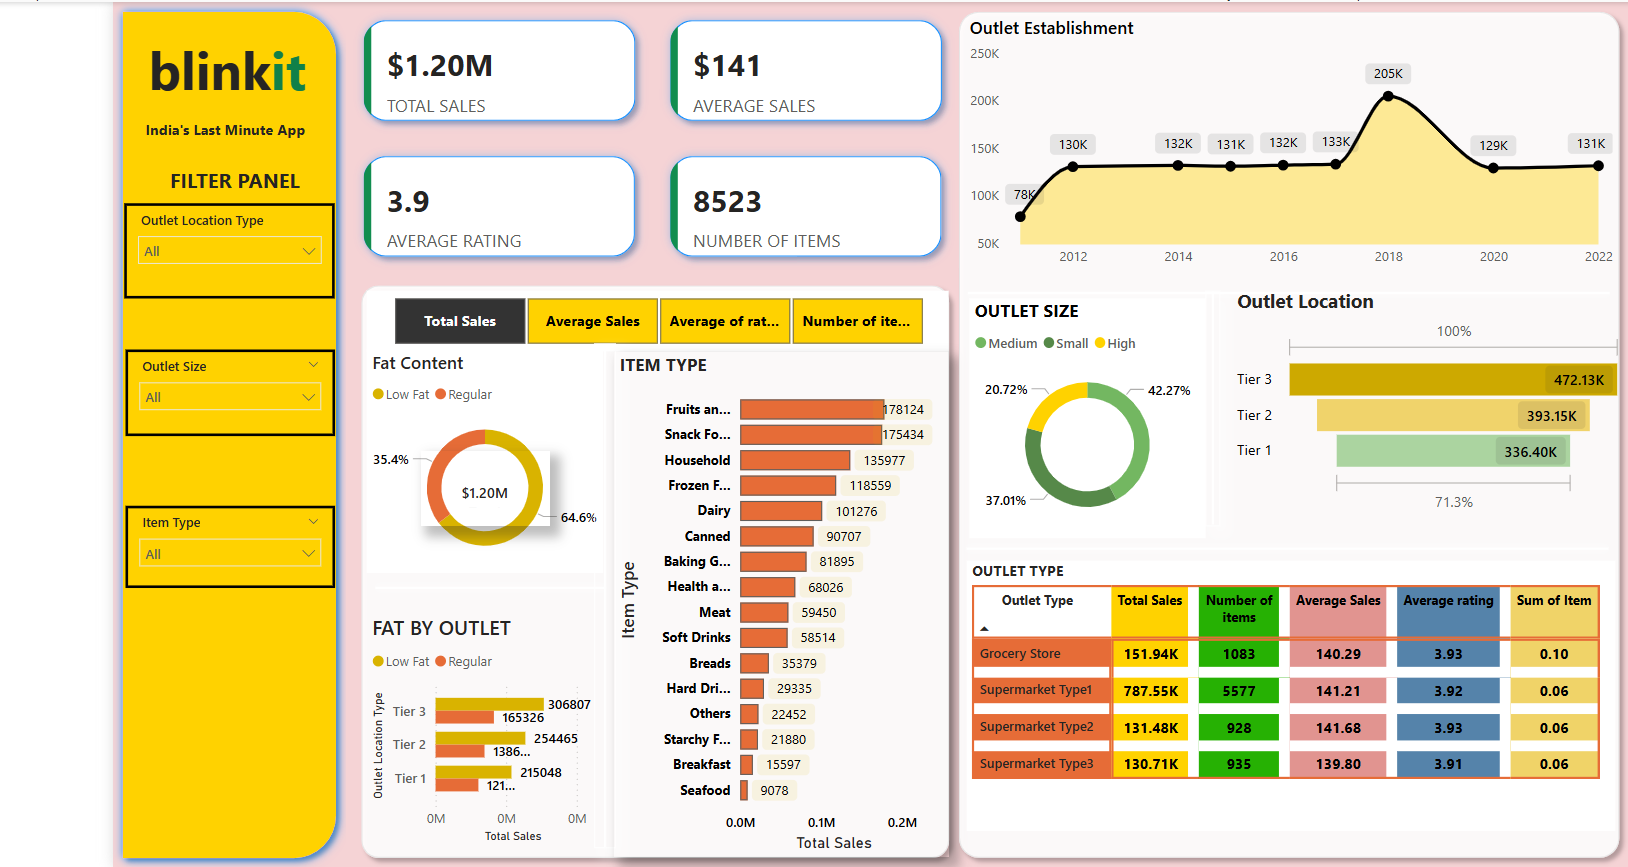

This screenshot's page, from the dashboard's own definition file:
{"tool":"powerbi","page":{"name":"Page 1","canvas":[1400,800],"ordinal":0},"visuals":[{"type":"shape","box":[0,0,214.9,800],"z":0},{"type":"textbox","box":[10.5,24,190.6,79.5],"z":1000},{"type":"textbox","box":[24,103.6,159.1,43.5],"z":2000},{"type":"cardVisual","fields":{"Data":["BlinkIT Grocery Data.Total Sales","BlinkIT Grocery Data.Average Sales","BlinkIT Grocery Data.Average of rating","BlinkIT Grocery Data.Number of items"]},"box":[214.9,0,569.8,253.1],"z":3000},{"type":"shape","box":[220,253.1,560.9,546.9],"z":4000},{"type":"donutChart","title":" Fat Content","fields":{"Y":["BlinkIT Grocery Data.Total Sales"],"Category":["BlinkIT Grocery Data.Item Fat Content"]},"box":[234,320.5,218.8,206],"z":5000},{"type":"slicer","fields":{"Values":["Metrices.Metrices"]},"box":[234,267.1,538,56],"z":6000},{"type":"cardVisual","fields":{"Data":["BlinkIT Grocery Data.Total Sales"]},"box":[283.6,414.6,119.5,69.9],"z":7000},{"type":"clusteredBarChart","title":"FAT BY OUTLET","fields":{"Y":["BlinkIT Grocery Data.Total Sales"],"Category":["BlinkIT Grocery Data.Outlet Location Type"],"Series":["BlinkIT Grocery Data.Item Fat Content"]},"box":[234,564.7,221.3,217.5],"z":8000},{"type":"shape","box":[234,526.5,228.9,29.3],"z":9000},{"type":"shape","box":[445.1,315.4,20.3,466.8],"z":10000},{"type":"clusteredBarChart","title":"ITEM TYPE","fields":{"Y":["BlinkIT Grocery Data.Total Sales"],"Category":["BlinkIT Grocery Data.Item Type"]},"box":[462.9,323,309,466.8],"z":11000},{"type":"shape","box":[772,0,628.3,800],"z":12000},{"type":"lineChart","title":" Outlet Establishment ","fields":{"Y":["BlinkIT Grocery Data.Total Sales"],"Category":["BlinkIT Grocery Data.Outlet Establishment Year"]},"box":[786,11.4,604.1,241.6],"z":13000},{"type":"shape","box":[782.2,260.7,609.2,12.7],"z":13001},{"type":"donutChart","title":"OUTLET SIZE","fields":{"Y":["BlinkIT Grocery Data.Total Sales"],"Category":["BlinkIT Grocery Data.Outlet Size"]},"box":[791.1,273.4,218.8,221.3],"z":13002},{"type":"shape","box":[1009.8,267.1,14,217.5],"z":13003},{"type":"funnel","title":"Outlet Location ","fields":{"Y":["Sum(BlinkIT Grocery Data.Sales)"],"Category":["BlinkIT Grocery Data.Outlet Location Type"]},"box":[1034,264.5,366.3,212.4],"z":13004},{"type":"shape","box":[780.9,494.7,609.2,21.6],"z":13005},{"type":"pivotTable","title":"OUTLET TYPE","fields":{"Rows":["BlinkIT Grocery Data.Outlet Type"],"Values":["BlinkIT Grocery Data.Total Sales","BlinkIT Grocery Data.Number of items","BlinkIT Grocery Data.Average Sales","BlinkIT Grocery Data.Average of rating","Avg(BlinkIT Grocery Data.Item Visibility)"]},"box":[788.5,516.4,599,249.3],"z":13006},{"type":"slicer","fields":{"Values":["BlinkIT Grocery Data.Outlet Location Type"]},"box":[10.2,185.7,194.6,87.8],"z":13007},{"type":"slicer","fields":{"Values":["BlinkIT Grocery Data.Outlet Size"]},"box":[11.4,320.5,193.3,80.1],"z":13008},{"type":"slicer","fields":{"Values":["BlinkIT Grocery Data.Item Type"]},"box":[11.4,465.5,193.3,76.3],"z":13009},{"type":"textbox","box":[24.2,146.3,176.8,39.4],"z":13010}]}

Visuals, with their boxes on the page's 1400x800 design canvas (x1, y1, x2, y2). These are canvas units, not pixel positions in the 1628x867 screenshot, which may show the page scaled, cropped or inside an application window:
shape: 0, 0, 215, 800
textbox: 10, 24, 201, 104
textbox: 24, 104, 183, 147
cardVisual - BlinkIT Grocery Data.Total Sales x BlinkIT Grocery Data.Average Sales: 215, 0, 785, 253
shape: 220, 253, 781, 800
" Fat Content" donutChart: 234, 320, 453, 526
slicer - Metrices.Metrices: 234, 267, 772, 323
cardVisual - BlinkIT Grocery Data.Total Sales: 284, 415, 403, 484
"FAT BY OUTLET" clusteredBarChart: 234, 565, 455, 782
shape: 234, 526, 463, 556
shape: 445, 315, 465, 782
"ITEM TYPE" clusteredBarChart: 463, 323, 772, 790
shape: 772, 0, 1400, 800
" Outlet Establishment " lineChart: 786, 11, 1390, 253
shape: 782, 261, 1391, 273
"OUTLET SIZE" donutChart: 791, 273, 1010, 495
shape: 1010, 267, 1024, 485
"Outlet Location " funnel: 1034, 264, 1400, 477
shape: 781, 495, 1390, 516
"OUTLET TYPE" pivotTable: 788, 516, 1388, 766
slicer - BlinkIT Grocery Data.Outlet Location Type: 10, 186, 205, 274
slicer - BlinkIT Grocery Data.Outlet Size: 11, 320, 205, 401
slicer - BlinkIT Grocery Data.Item Type: 11, 466, 205, 542
textbox: 24, 146, 201, 186
